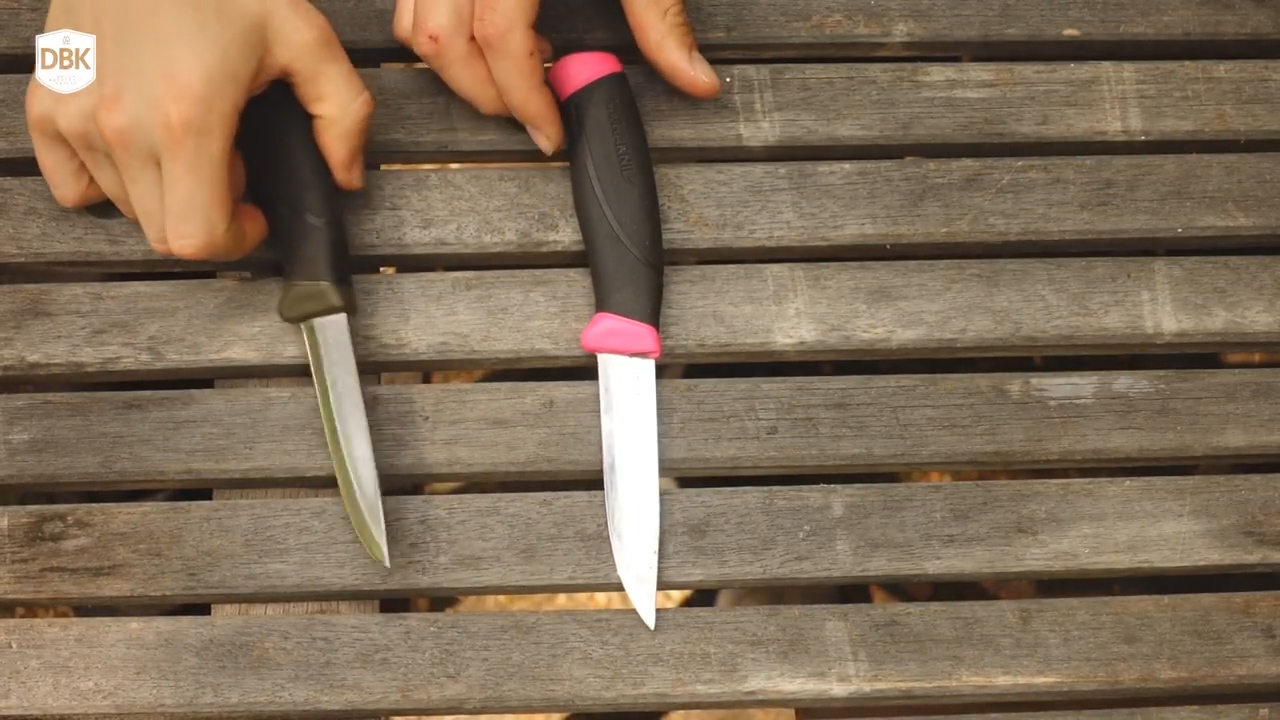knife: (186, 132, 401, 584), (572, 268, 683, 639)
